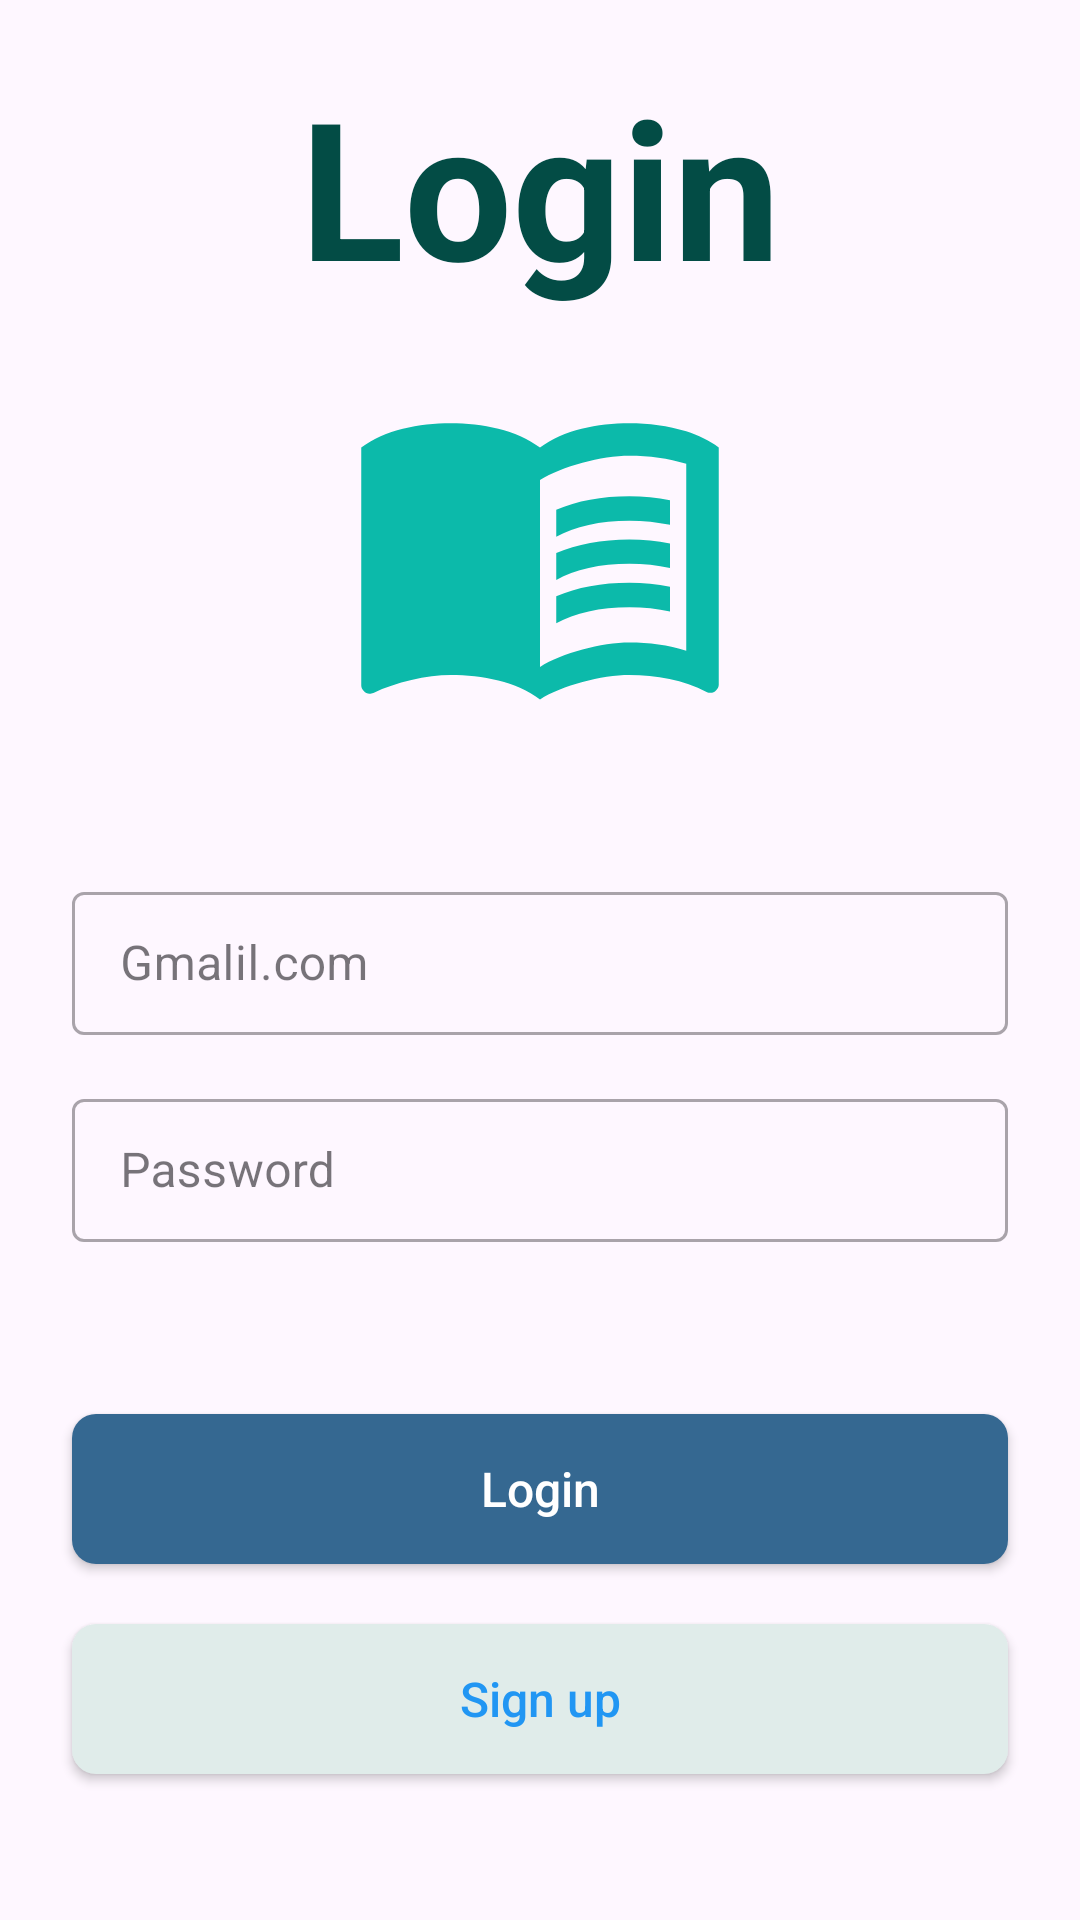

Named icons in this screenshot (1080×1920) and their bounding boxes, [left=x1, top=y1, right=x2, bottom=y2]:
book: [left=361, top=423, right=719, bottom=700]
